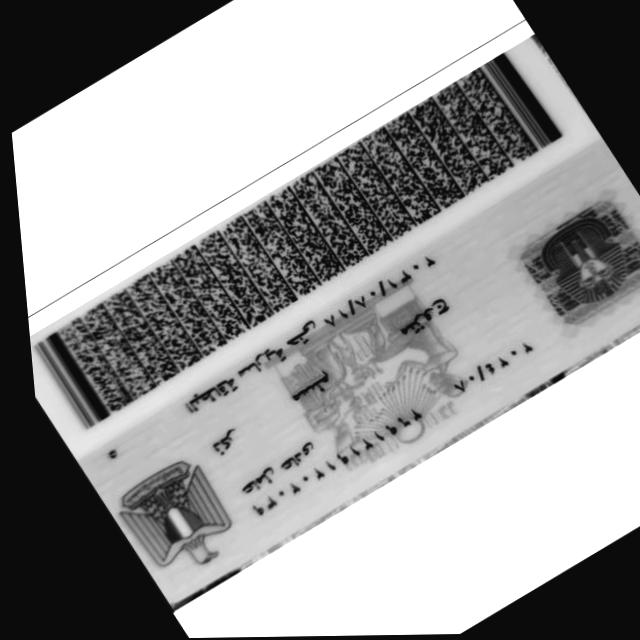id_card: (30, 39, 640, 599)
